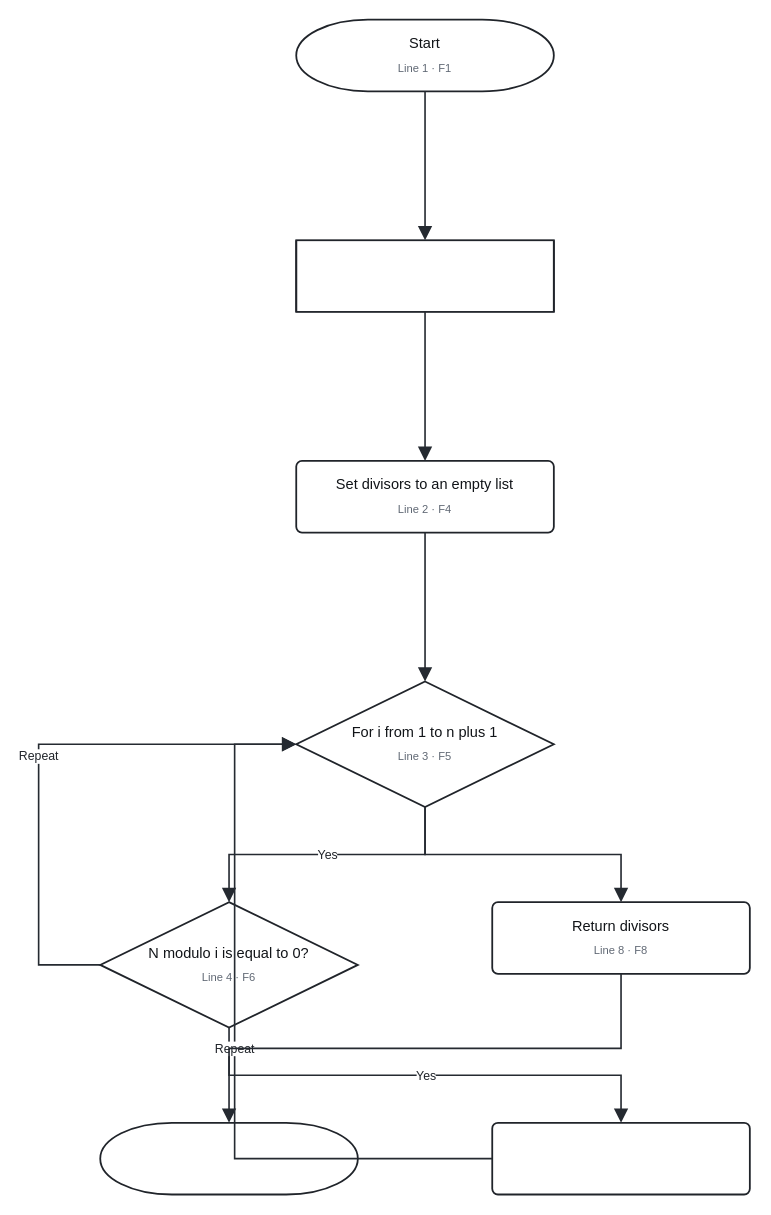
The diagram is 771 pixels wide and 1215 high, and some of its shapes have lost their labels. Here are the shapes that lost their labels. From the top down, the centre of each, then its label:
At (x=424, y=275): "Run function findDivisors with n Line 1 · F3".
At (x=228, y=1158): "End Line 1 · F2".
At (x=620, y=1158): "Append i to divisors Line 5 · F7".
